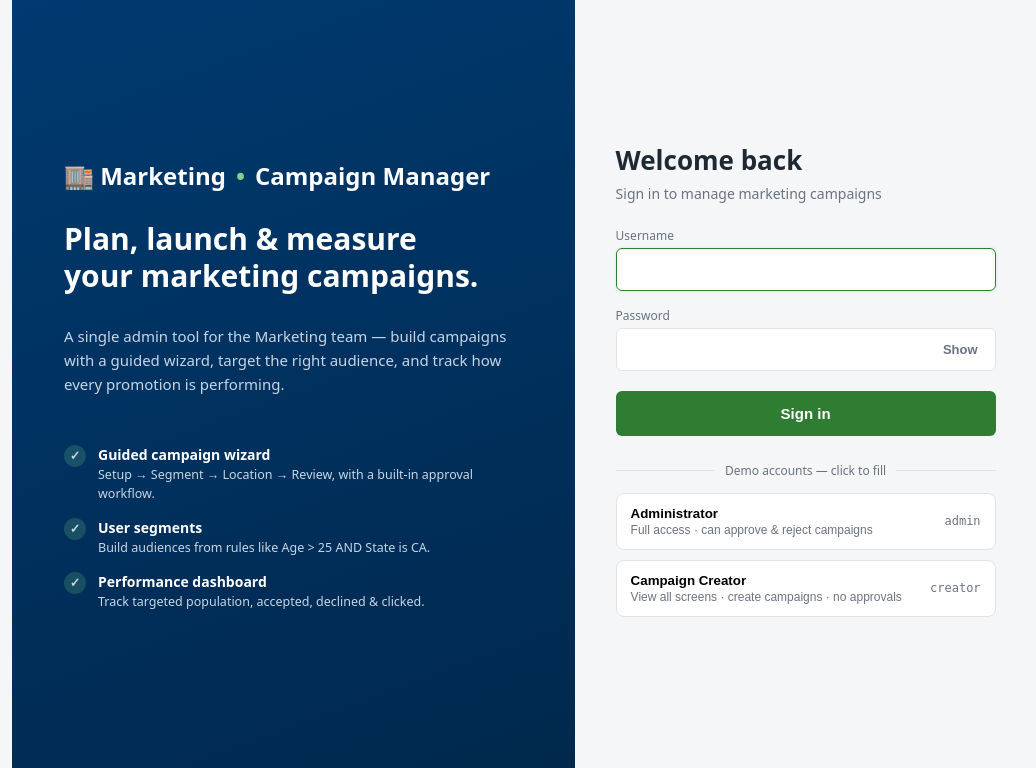
Test: shows an error on invalid credentials and does not authenticate
Note: The username field is the only text input on the form.
Type "nope" into the field at (806, 269), box [616,248,996,290]
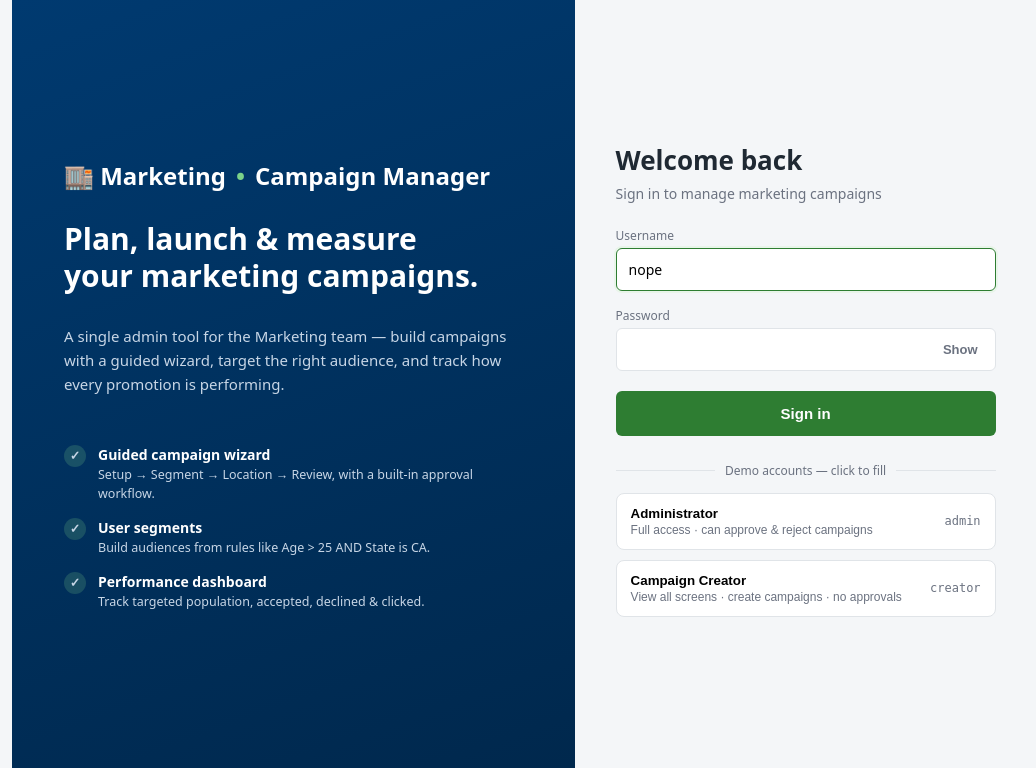
Click the button "Sign in" at (806, 413), box [616,390,996,436]
(page scrolled)
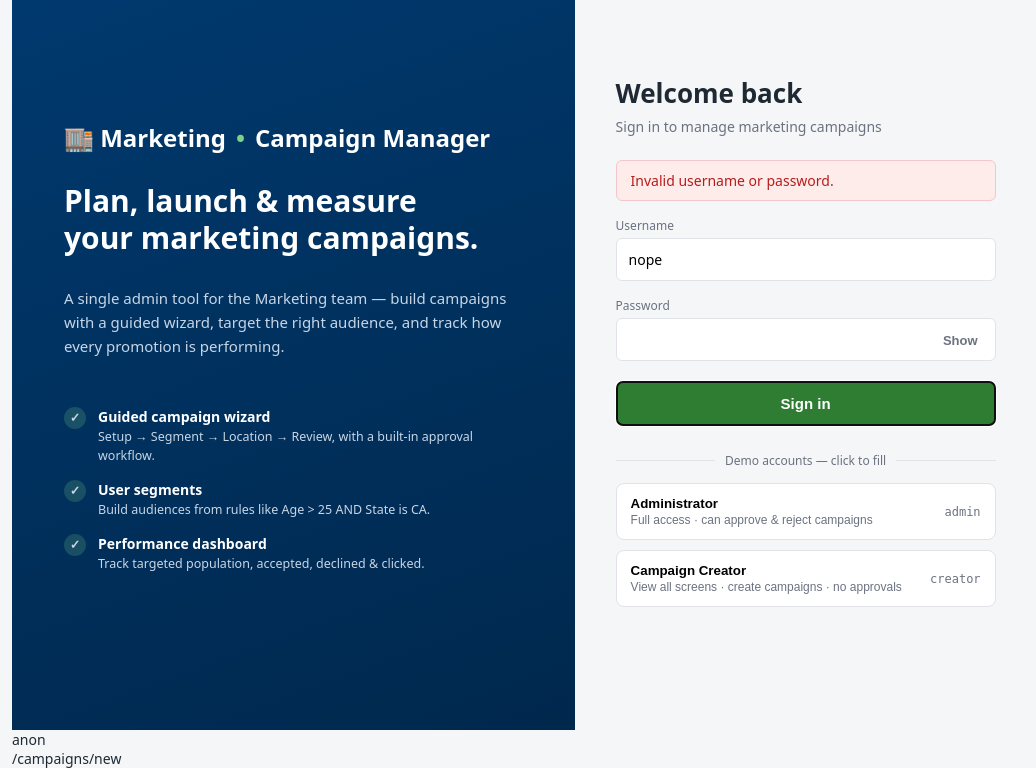
Expected: the text with test id "who" reads "anon", [12,730,46,749]
Expected: the text "Invalid username or password." is shown, [616,160,996,201]
